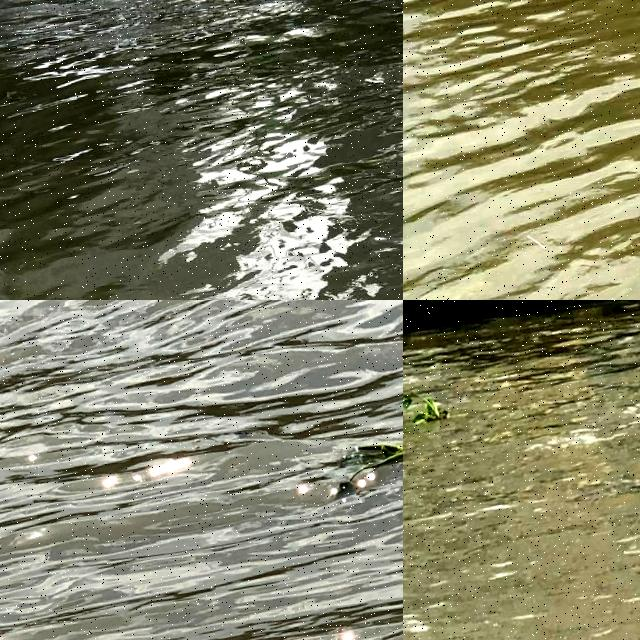water-hyacinth: (329, 419, 404, 506), (404, 381, 460, 434)
